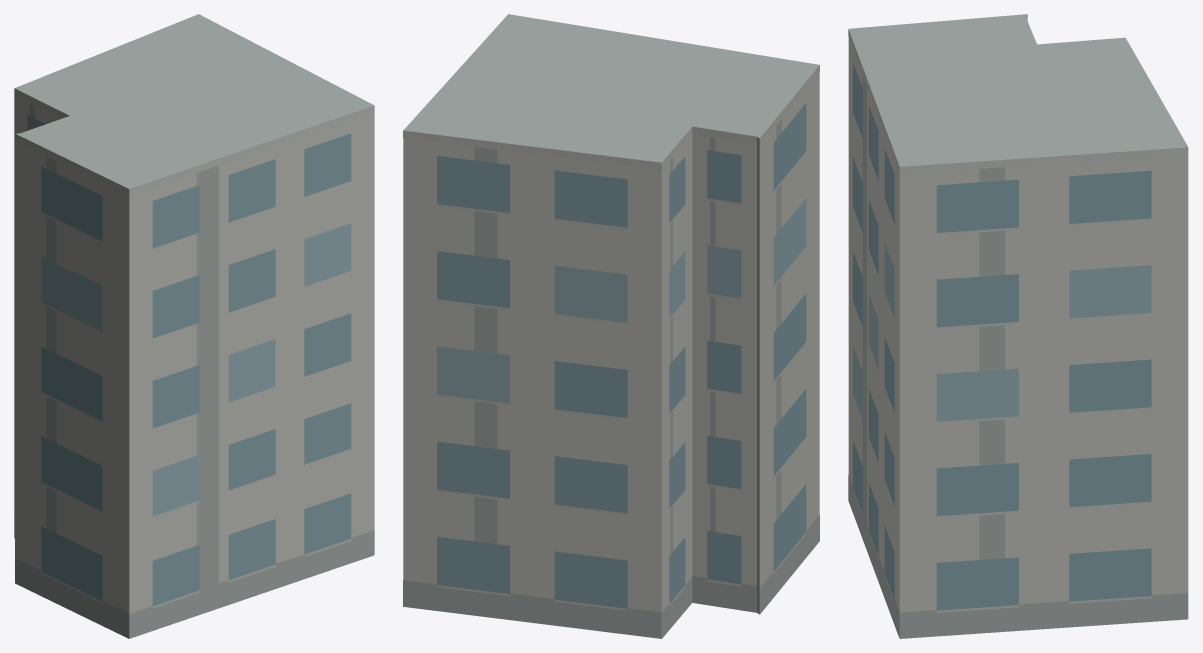
File: survey-upis-32461622.glb
The picture shows the model from 3 angles, left to right: view 1: azimuth 30°, elevation 25°; view 2: azimuth 150°, elevation 25°; view 3: azimuth 270°, elevation 25°; orthographic projection. The views are drawn at different scales.
Visible parts, largest first — view 1: survey-upis-32461622.tmp; view 2: survey-upis-32461622.tmp; view 3: survey-upis-32461622.tmp.
Boxes of the visible parts, box(x1,y1,x2,y2) form: survey-upis-32461622.tmp: box(14, 14, 374, 638); survey-upis-32461622.tmp: box(403, 14, 819, 638); survey-upis-32461622.tmp: box(848, 14, 1188, 638).
Bounding box in the file's own units: 10.64 × 15.3 × 10.
